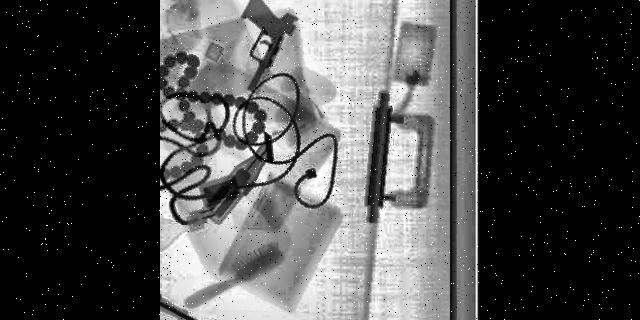Gun: (239, 0, 298, 92)
